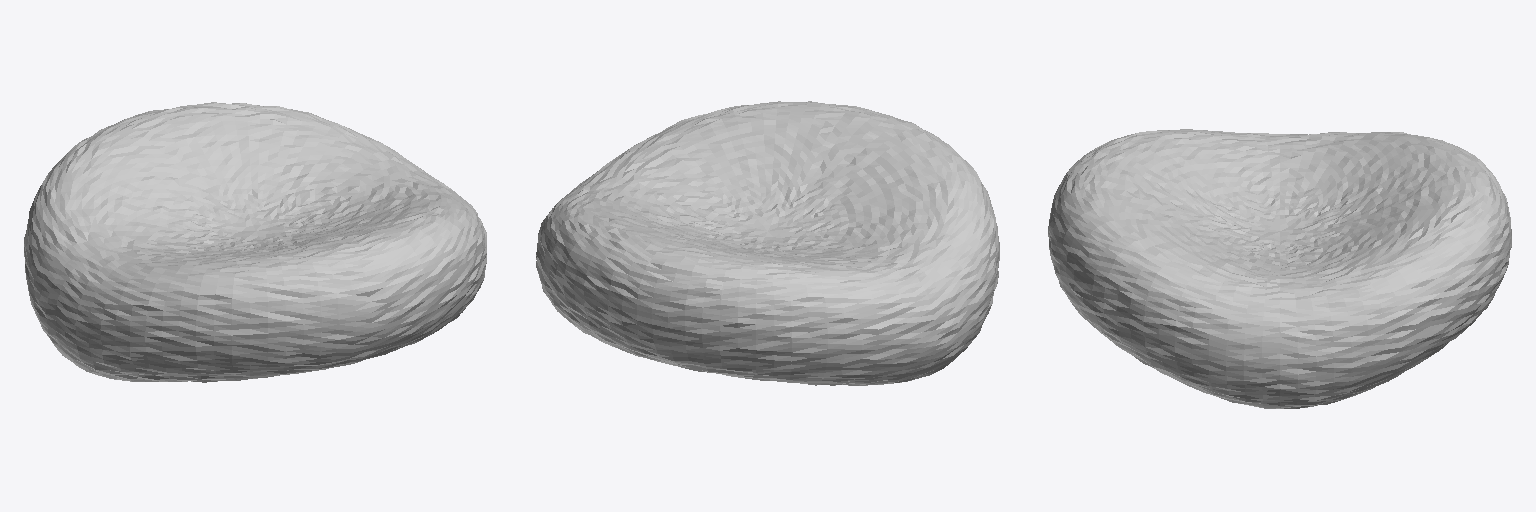
The model's file is cell.obj.
The picture shows the model from 3 angles: view 1: azimuth 30°, elevation 25°; view 2: azimuth 150°, elevation 25°; view 3: azimuth 270°, elevation 25°; orthographic projection.
Parts seen in each view (by area): view 1: Sphere.002_Sphere.003; view 2: Sphere.002_Sphere.003; view 3: Sphere.002_Sphere.003.
Part boxes in pixels (bbox=[...]): Sphere.002_Sphere.003: bbox=[24, 102, 486, 382]; Sphere.002_Sphere.003: bbox=[536, 101, 999, 385]; Sphere.002_Sphere.003: bbox=[1048, 129, 1511, 408].
Size of the model in its own units: 1.87 by 0.668 by 1.87.